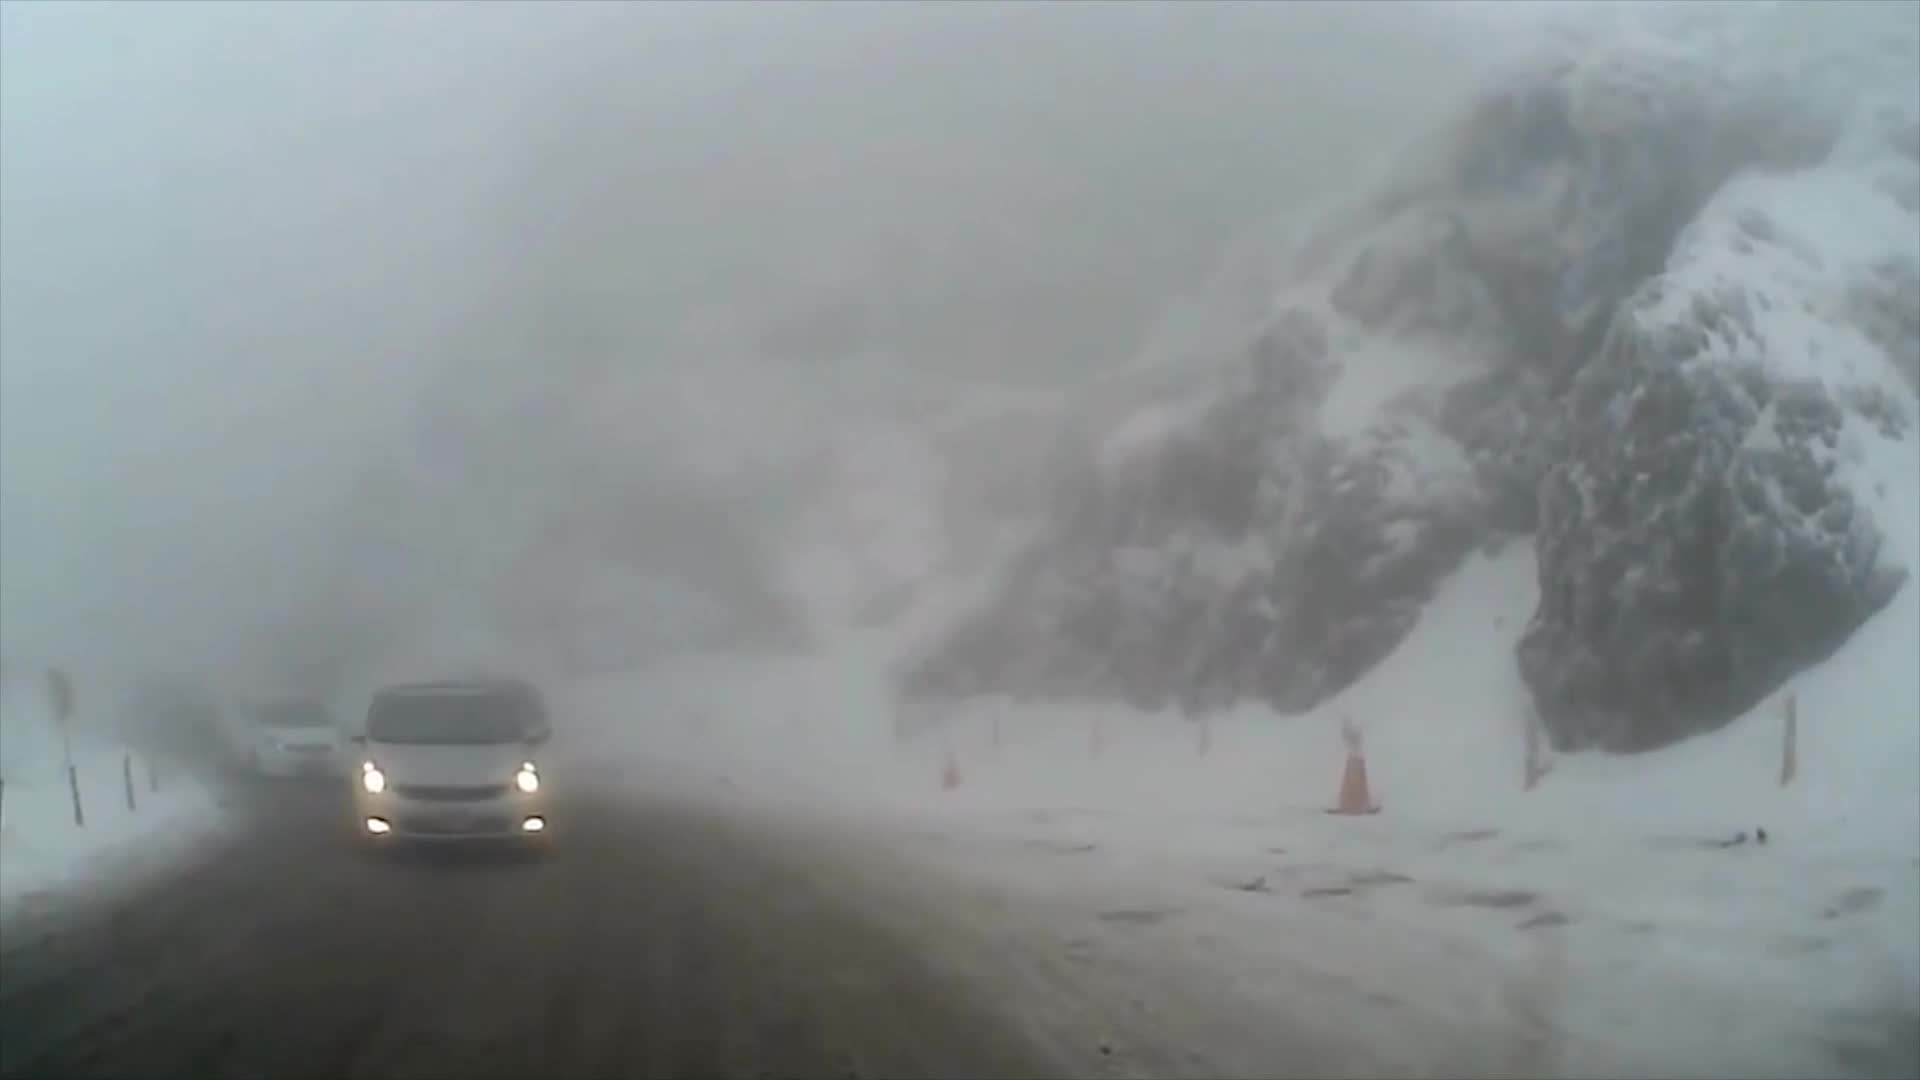vehicle: (342, 678, 553, 865), (220, 692, 355, 785)
